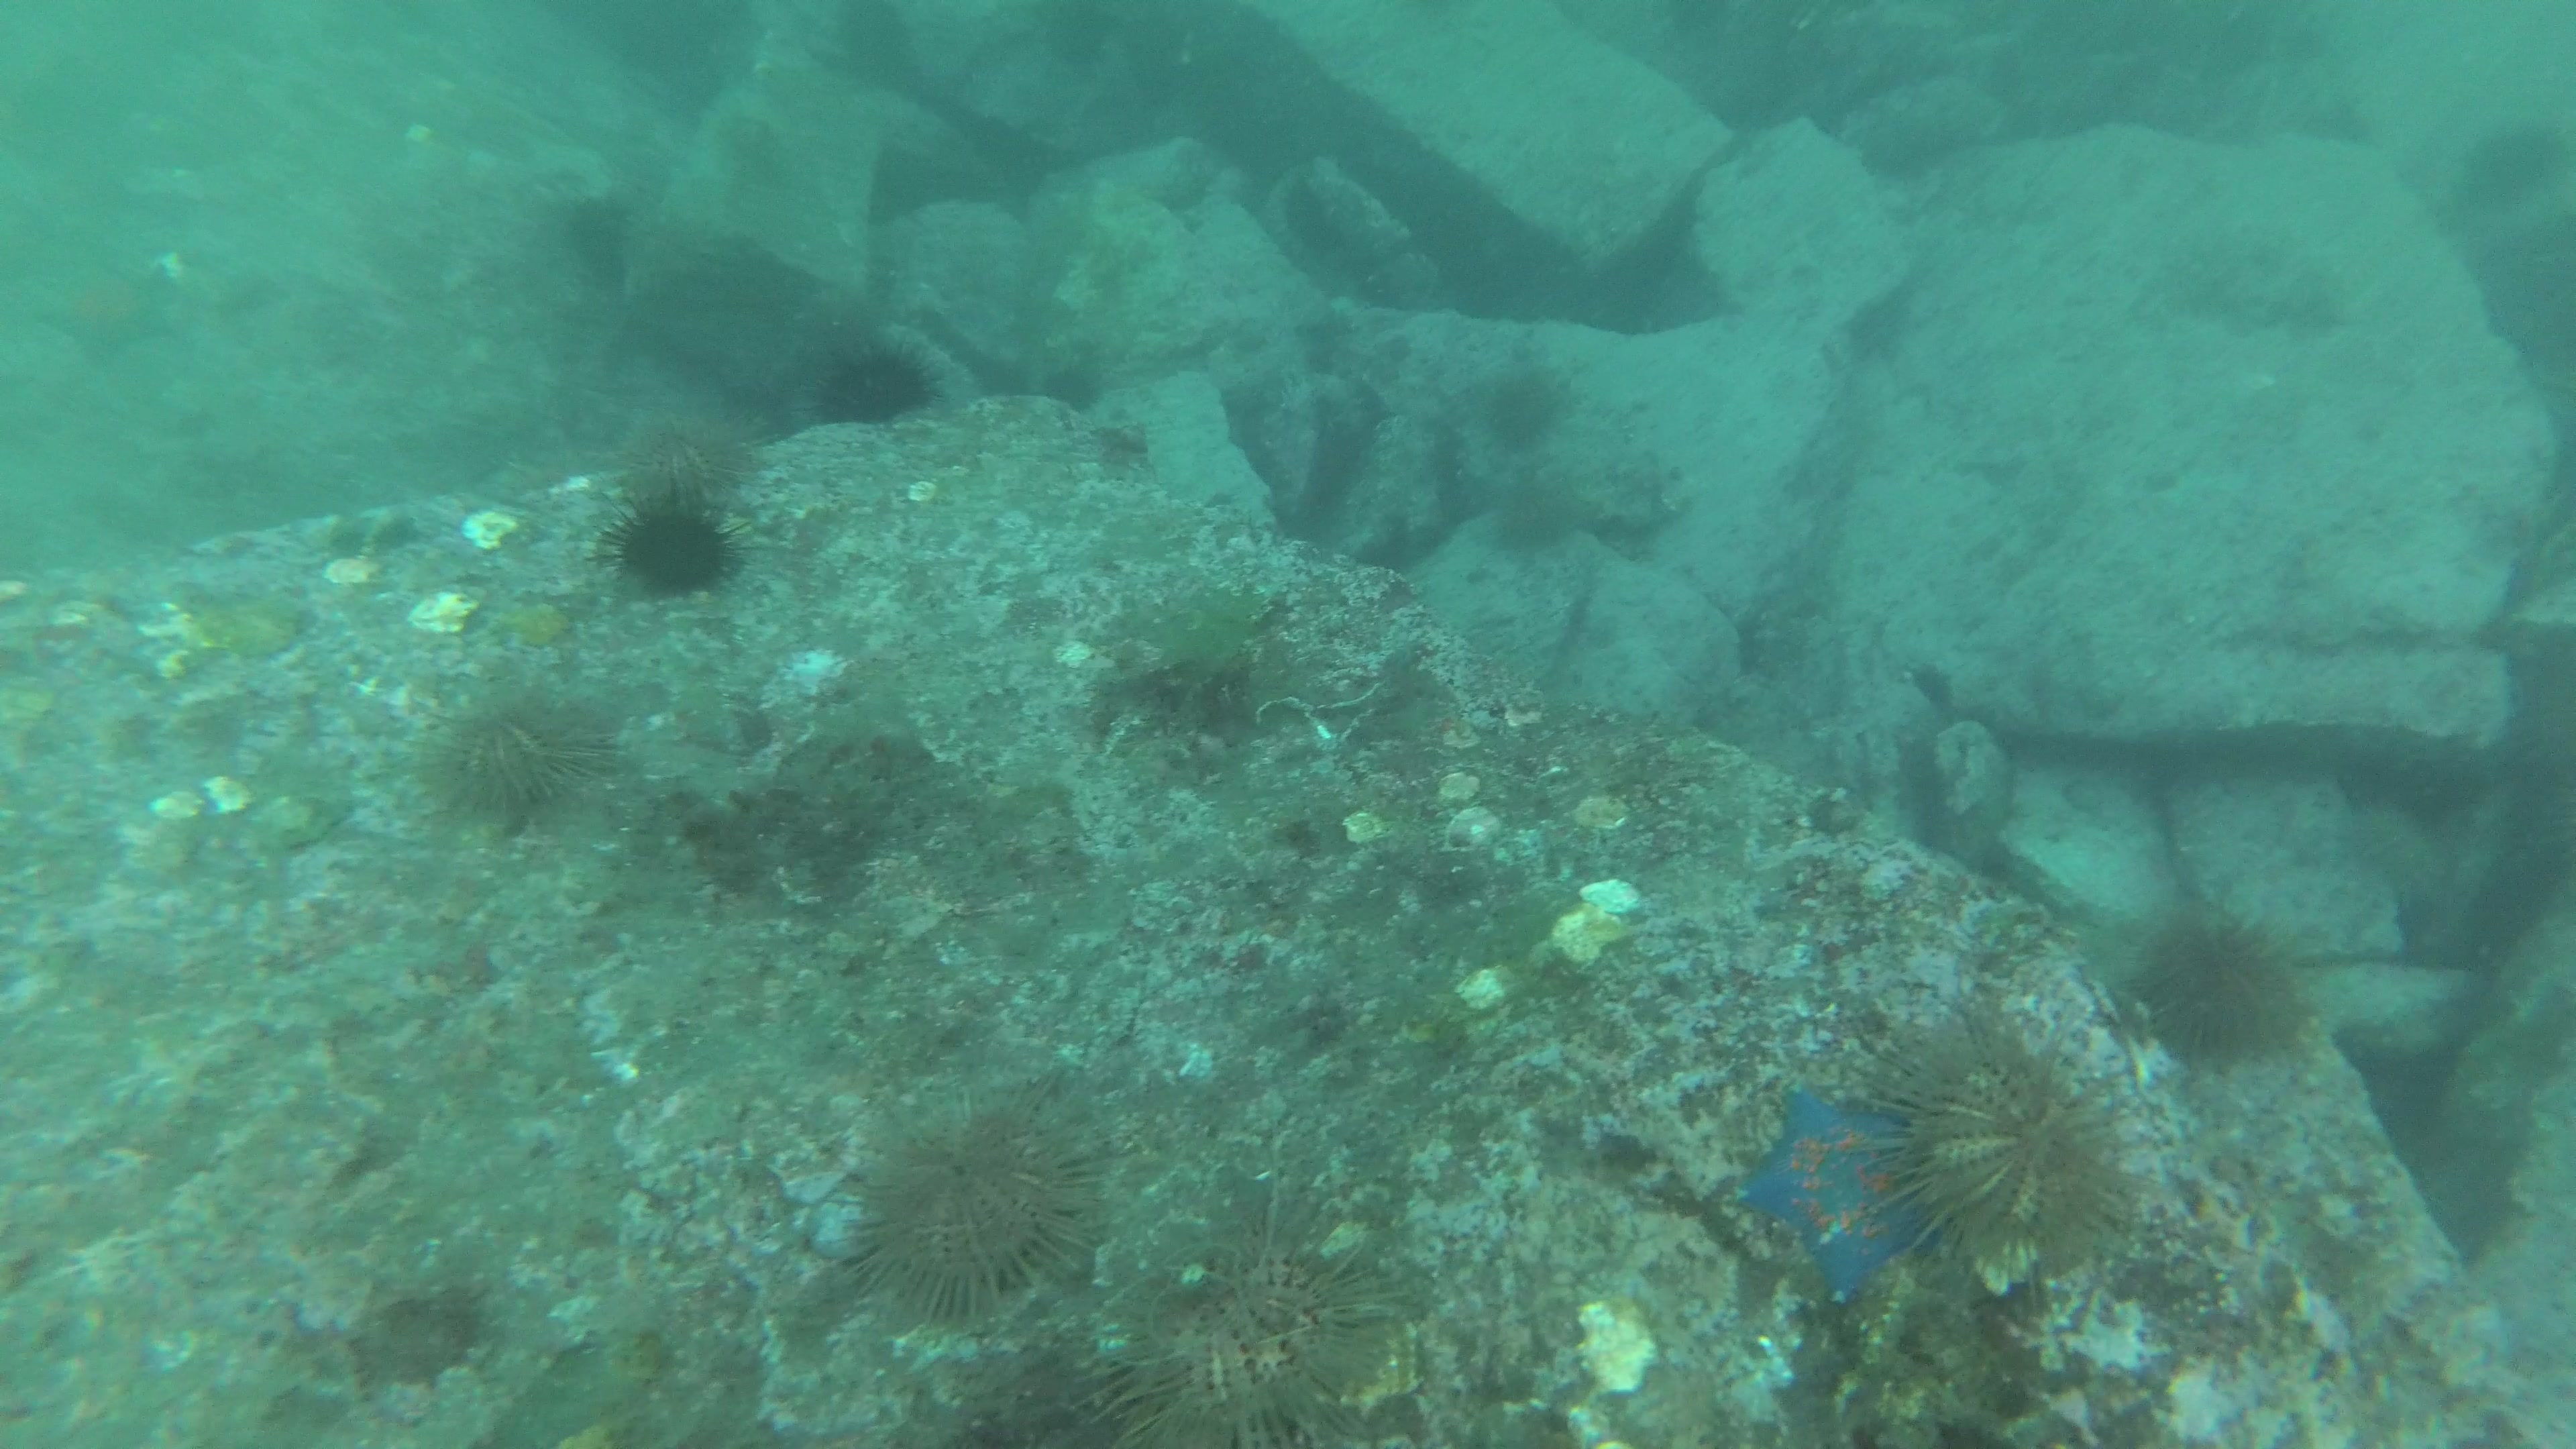echinus: (1083, 1207, 1394, 1438), (1893, 1021, 2116, 1263), (842, 1113, 1085, 1316), (2134, 920, 2311, 1069), (441, 709, 621, 810), (812, 343, 948, 430), (593, 499, 734, 582), (603, 433, 745, 511), (1486, 370, 1571, 444), (1491, 488, 1587, 545)
starfish: (1736, 1088, 1909, 1293)
